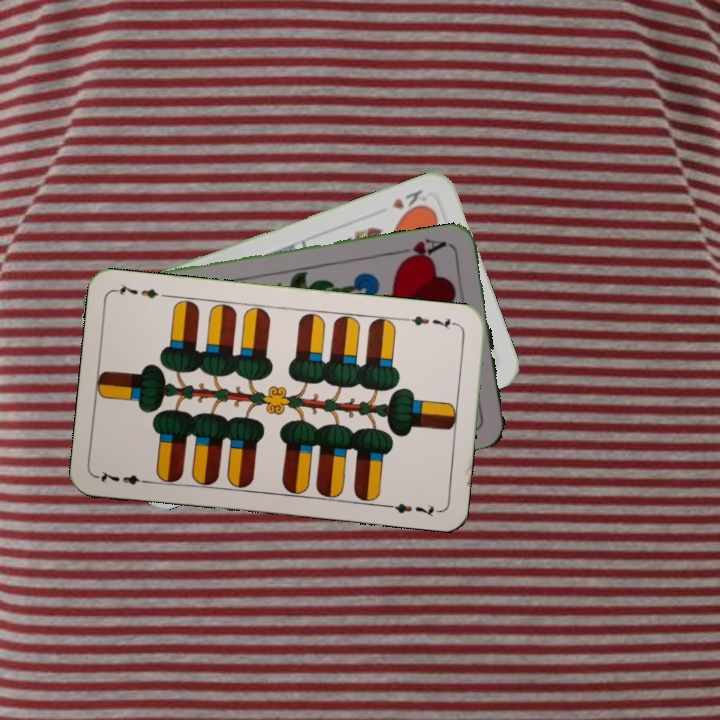E7: (401, 311, 460, 332), (94, 467, 153, 487)
HA: (392, 234, 451, 265)
HK: (387, 185, 430, 218)
